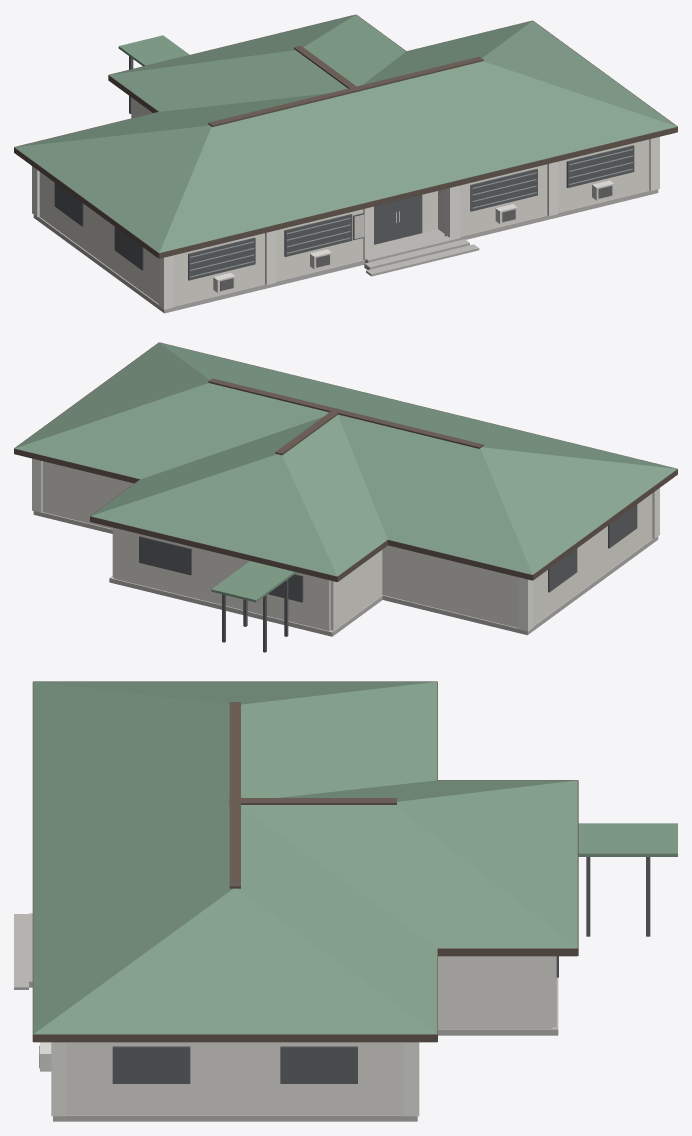
Rendered from tanco_hall_building.glb.
3 renders of one model, top to bottom at view 1: azimuth 30°, elevation 25°; view 2: azimuth 150°, elevation 25°; view 3: azimuth 270°, elevation 25°, orthographic. The views are drawn at different scales.
Parts seen in each view (by area): view 1: Mesh_Mat_Tanco_Roof, Mesh_Mat_Tanco_Wall, Mesh_Mat_Tanco_Frame, Mesh_Mat_Tanco_Fascia, Mesh_Mat_Tanco_Plinth, Mesh_Mat_Tanco_Pilaster, Mesh_Mat_Tanco_Louvers, Mesh_Mat_Tanco_AC, Mesh_Mat_Tanco_AC_Grille; view 2: Mesh_Mat_Tanco_Roof, Mesh_Mat_Tanco_Wall, Mesh_Mat_Tanco_Fascia, Mesh_Mat_Tanco_Frame, Mesh_Mat_Tanco_Plinth, Mesh_Mat_Tanco_Pilaster; view 3: Mesh_Mat_Tanco_Roof, Mesh_Mat_Tanco_Wall, Mesh_Mat_Tanco_Fascia, Mesh_Mat_Tanco_Frame, Mesh_Mat_Tanco_Plinth, Mesh_Mat_Tanco_Pilaster.
Part boxes in pixels (<box>): Mesh_Mat_Tanco_Roof: <box>15,15,676,252</box>; Mesh_Mat_Tanco_Wall: <box>39,97,649,306</box>; Mesh_Mat_Tanco_Frame: <box>54,56,634,280</box>; Mesh_Mat_Tanco_Fascia: <box>14,14,677,258</box>; Mesh_Mat_Tanco_Plinth: <box>33,189,658,313</box>; Mesh_Mat_Tanco_Pilaster: <box>32,137,659,309</box>; Mesh_Mat_Tanco_Louvers: <box>190,149,632,277</box>; Mesh_Mat_Tanco_AC: <box>213,180,614,292</box>; Mesh_Mat_Tanco_AC_Grille: <box>220,185,612,291</box>; Mesh_Mat_Tanco_Roof: <box>15,342,676,602</box>; Mesh_Mat_Tanco_Wall: <box>42,461,652,630</box>; Mesh_Mat_Tanco_Fascia: <box>14,342,677,581</box>; Mesh_Mat_Tanco_Frame: <box>139,504,637,652</box>; Mesh_Mat_Tanco_Plinth: <box>33,511,658,636</box>; Mesh_Mat_Tanco_Pilaster: <box>32,458,659,631</box>; Mesh_Mat_Tanco_Roof: <box>33,681,677,1034</box>; Mesh_Mat_Tanco_Wall: <box>66,956,556,1114</box>; Mesh_Mat_Tanco_Fascia: <box>32,681,578,1042</box>; Mesh_Mat_Tanco_Frame: <box>112,857,650,1083</box>; Mesh_Mat_Tanco_Plinth: <box>14,913,558,1121</box>; Mesh_Mat_Tanco_Pilaster: <box>51,1042,419,1116</box>.
Size of the model in its own units: 27.96 by 5.88 by 22.2.
